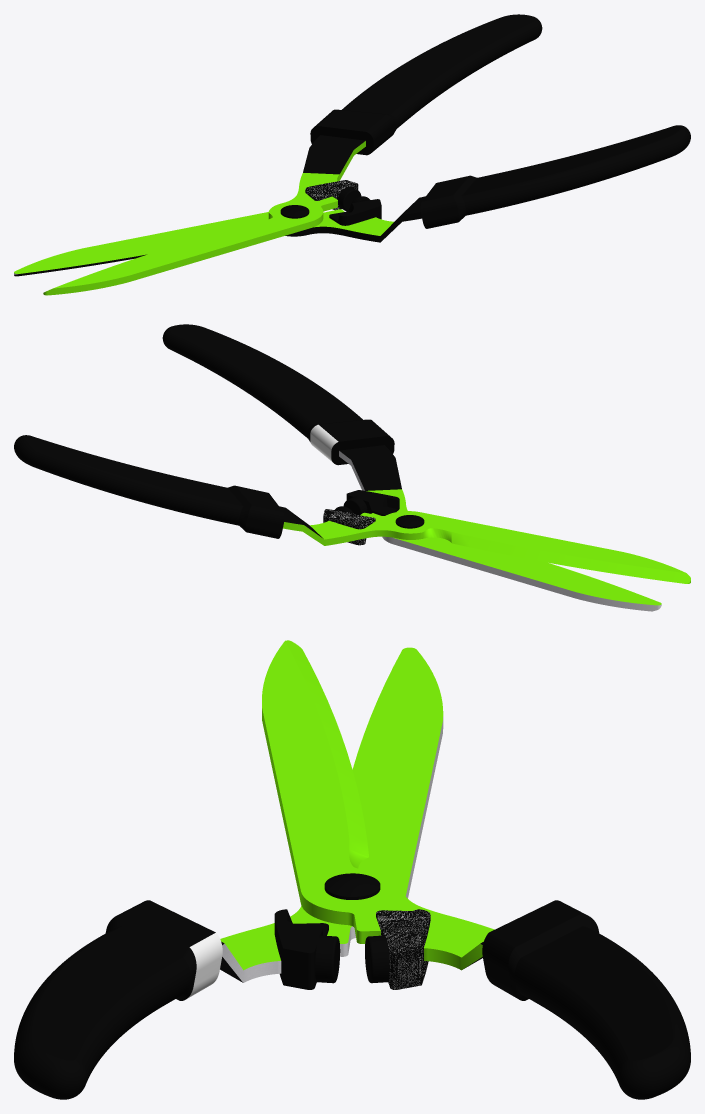
The model's file is shears_02_origin_gt_2.dae.
3 renders of one model, top to bottom at view 1: azimuth 30°, elevation 25°; view 2: azimuth 150°, elevation 25°; view 3: azimuth 270°, elevation 25°, orthographic. The views are drawn at different scales.
Visible parts, largest first — view 1: group_9, group_11, group_10 (×2), group_1 (×2), group_4, group_7; view 2: group_11 (×2), group_9, group_10, group_1 (×3), group_4, group_7; view 3: group_10, group_11 (×2), group_9, group_1 (×2), group_7, group_4, group_0, group_3, group_6.
Boxes of the visible parts, <box> form: group_9: <box>310,14,542,155</box>; group_11: <box>420,125,690,228</box>; group_10 (×2): <box>43,135,365,295</box>; group_1 (×2): <box>14,209,421,276</box>; group_4: <box>329,199,381,225</box>; group_7: <box>305,180,358,210</box>; group_11 (×2): <box>162,324,394,465</box>; group_9: <box>14,435,284,538</box>; group_10: <box>283,511,690,583</box>; group_1 (×3): <box>339,445,661,611</box>; group_4: <box>346,490,399,515</box>; group_7: <box>323,509,375,545</box>; group_10: <box>262,640,494,970</box>; group_11 (×2): <box>14,900,222,1099</box>; group_9: <box>482,900,690,1099</box>; group_1 (×2): <box>220,647,443,982</box>; group_7: <box>376,909,430,989</box>; group_4: <box>274,909,328,989</box>; group_0: <box>324,873,380,899</box>; group_3: <box>315,935,340,983</box>; group_6: <box>365,935,389,983</box>.
Bounding box in the file's own units: 7.33 × 3.75 × 0.9913.
Materials: 5 (1 with a texture image).
